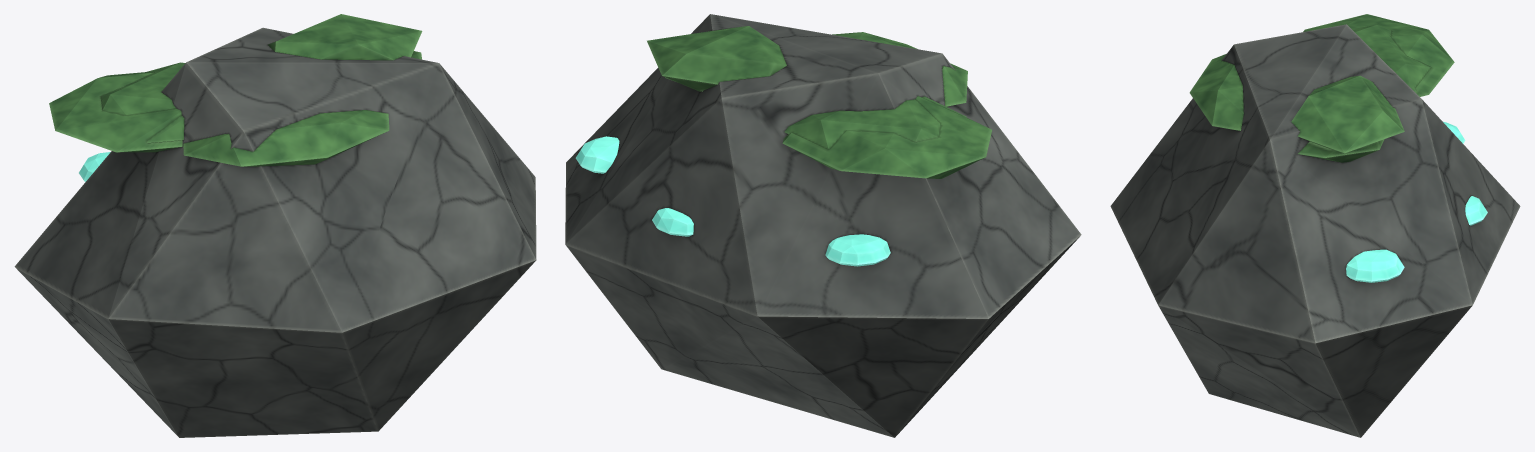
File: underworld-flora-fungal-moss-stone.glb
3 renders of one model, left to right at view 1: azimuth 30°, elevation 25°; view 2: azimuth 150°, elevation 25°; view 3: azimuth 270°, elevation 25°, orthographic. The views are drawn at different scales.
Parts seen in each view (by area): view 1: stone, moss; view 2: stone, moss, shelf-caps; view 3: stone, moss, shelf-caps.
Boxes of the visible parts, box(x1,y1,x2,y2) form: stone: box(14, 27, 536, 437); moss: box(49, 14, 422, 166); stone: box(565, 14, 1081, 437); moss: box(647, 26, 991, 178); shelf-caps: box(575, 136, 890, 266); stone: box(1110, 24, 1520, 437); moss: box(1189, 14, 1454, 162); shelf-caps: box(1346, 121, 1487, 282).
Bounding box in the file's own units: 1.4 × 1.04 × 1.13.
3 materials, 3 textured.
